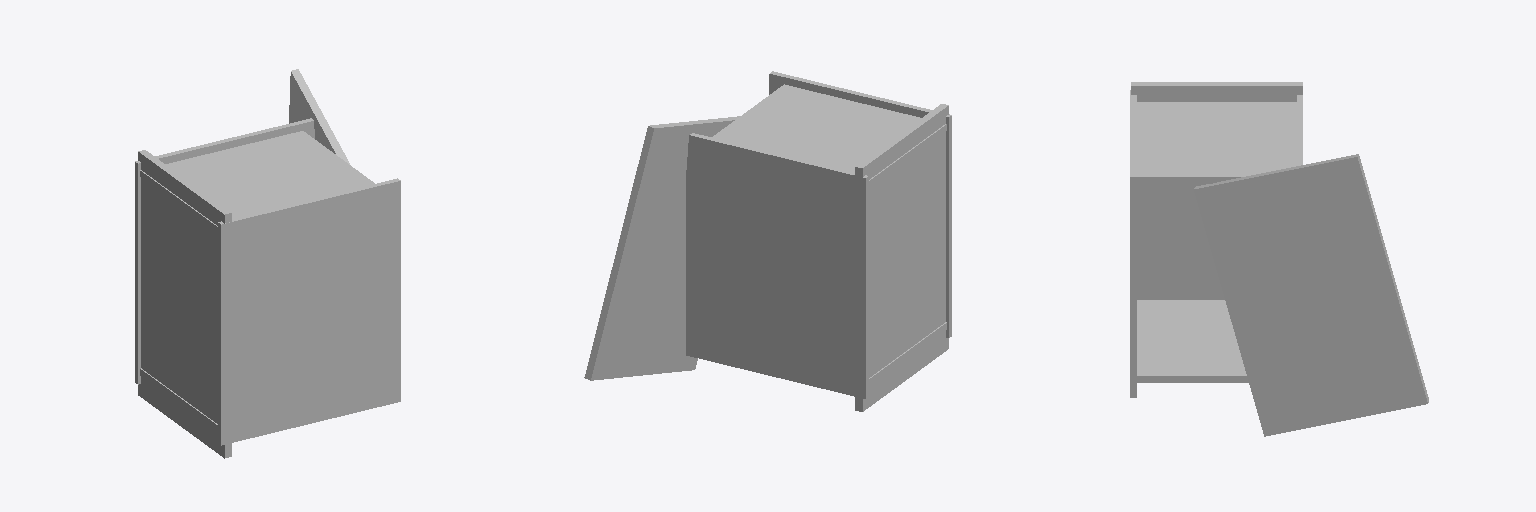
Rendered from Elevator.obj.
The picture shows the model from 3 angles: view 1: azimuth 30°, elevation 25°; view 2: azimuth 150°, elevation 25°; view 3: azimuth 270°, elevation 25°; orthographic projection.
Parts seen in each view (by area): view 1: Cube.003, Cube.004, Cube.001, Cube.002, Cube.005, Cube; view 2: Cube.002, Cube.004, Cube.005, Cube.001, Cube.003, Cube; view 3: Cube.005, Cube.001, Cube.004, Cube, Cube.003.
Boxes of the visible parts, box(x1,y1,x2,y2) form: Cube.003: box(218, 178, 400, 445); Cube.004: box(138, 150, 231, 458); Cube.001: box(140, 131, 374, 233); Cube.002: box(135, 118, 314, 384); Cube.005: box(289, 69, 349, 164); Cube: box(140, 368, 217, 431); Cube.002: box(686, 133, 868, 398); Cube.004: box(855, 104, 948, 411); Cube.005: box(584, 116, 739, 380); Cube.001: box(712, 84, 946, 187); Cube.003: box(769, 71, 951, 337); Cube: box(869, 322, 946, 385); Cube.005: box(1194, 154, 1428, 436); Cube.001: box(1137, 102, 1296, 183); Cube.004: box(1131, 82, 1302, 299); Cube: box(1137, 300, 1248, 382); Cube.003: box(1130, 90, 1136, 397).
Size of the model in its own units: 6.94 by 8.4 by 8.2.